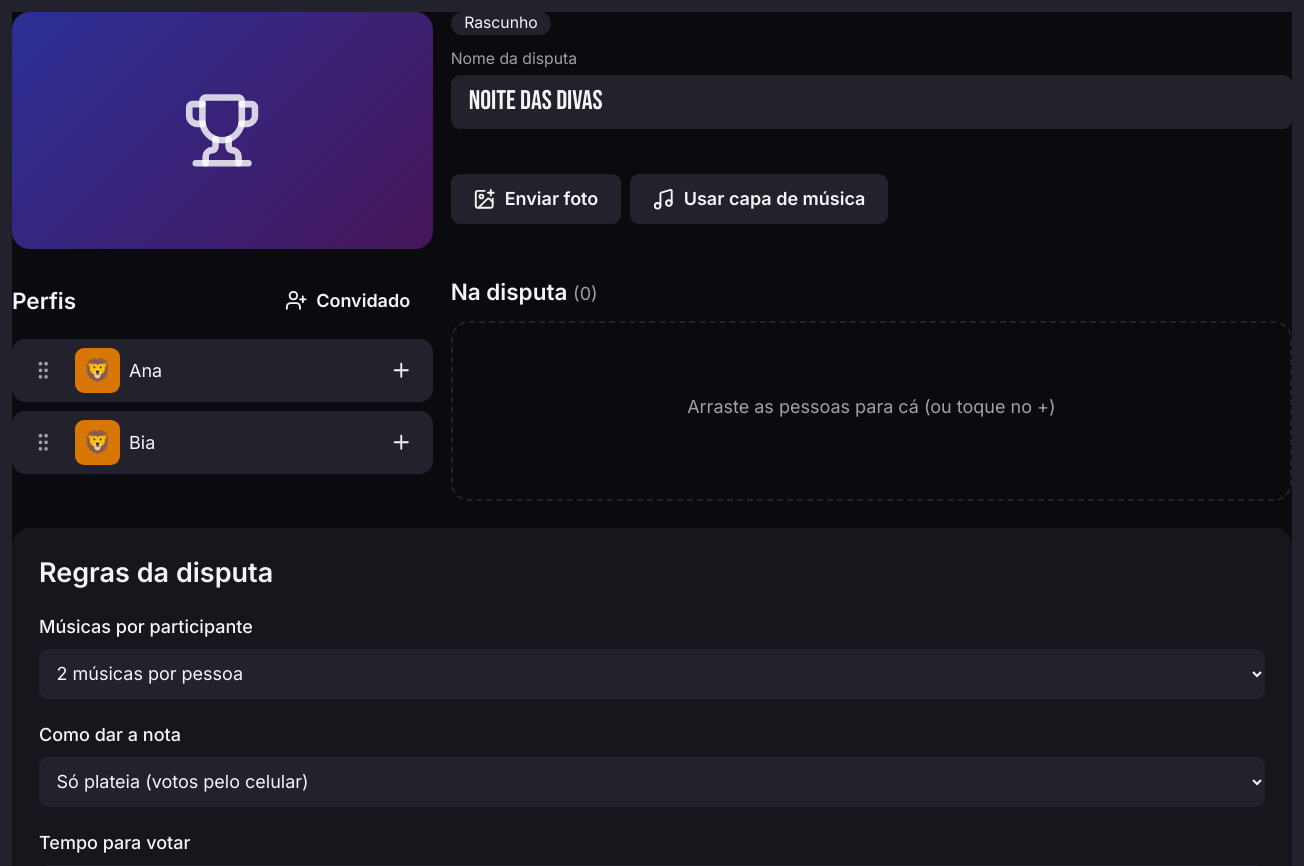
competitions › draft › puts a person in the competition with the + button
Click the button named "Pôr Ana na disputa" at point(401, 370), box [379,348,424,393]
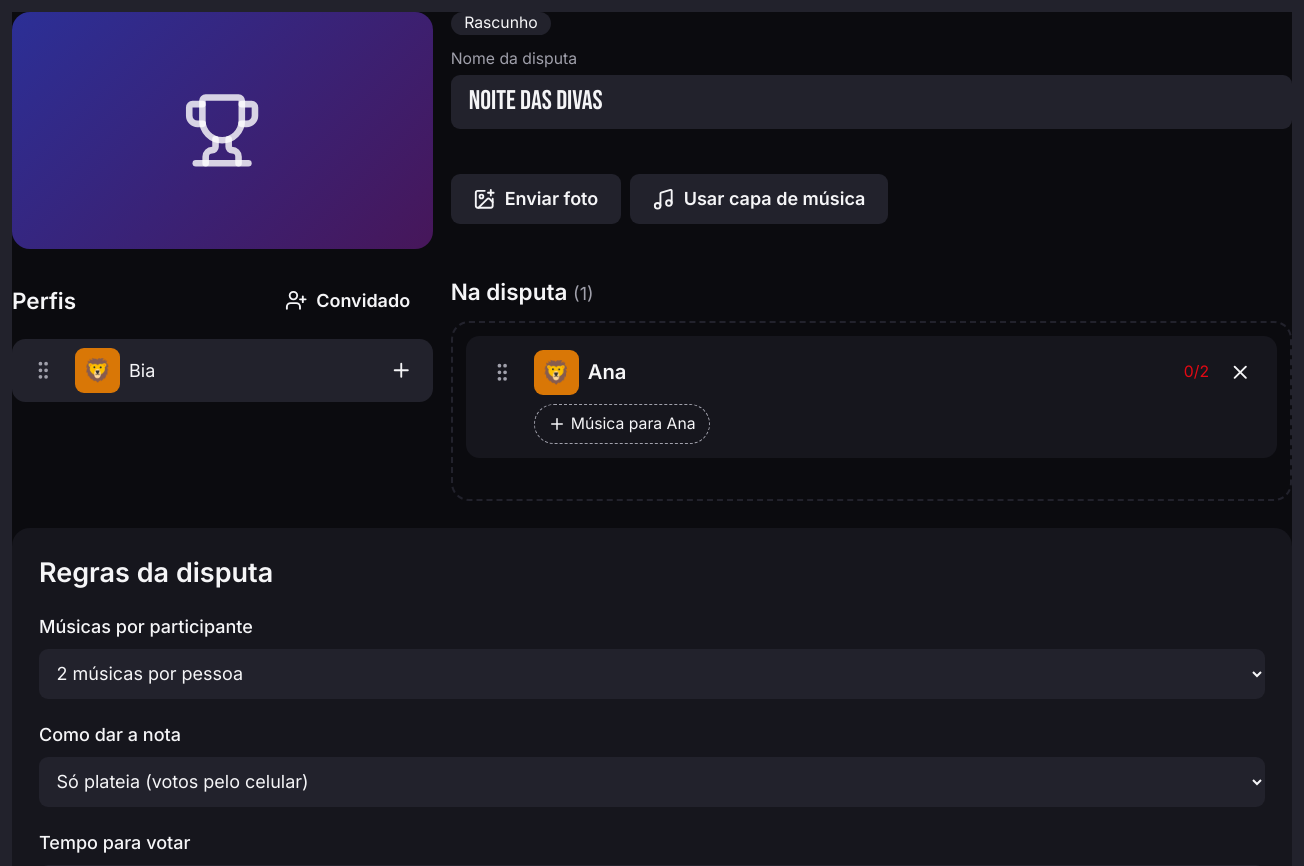
Expected: the text "Ana" is shown, [588,359,626,384]
Expected: the text "0/2" is shown, [1184,361,1209,383]
